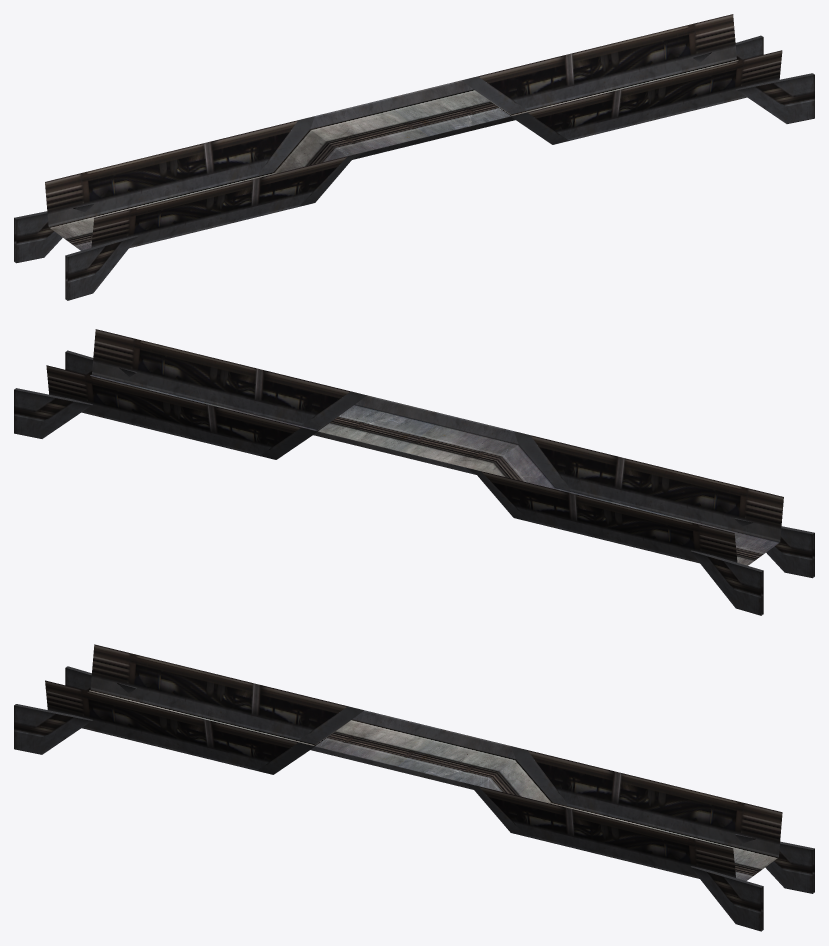
The model's file is ARC_GirderB_Frontal.FBX.
3 views of the same model, one above another, from view 1: azimuth 30°, elevation 25°; view 2: azimuth 150°, elevation 25°; view 3: azimuth 330°, elevation 25° (orthographic).
Parts seen in each view (by area): view 1: ARC_GirderB_Frontal; view 2: ARC_GirderB_Frontal; view 3: ARC_GirderB_Frontal.
Part boxes in pixels (<box>): ARC_GirderB_Frontal: <box>14,14,814,300</box>; ARC_GirderB_Frontal: <box>14,329,814,615</box>; ARC_GirderB_Frontal: <box>14,644,814,931</box>.
Size of the model in its own units: 500 by 47.46 by 62.21.
Materials: 1 (1 with a texture image).
